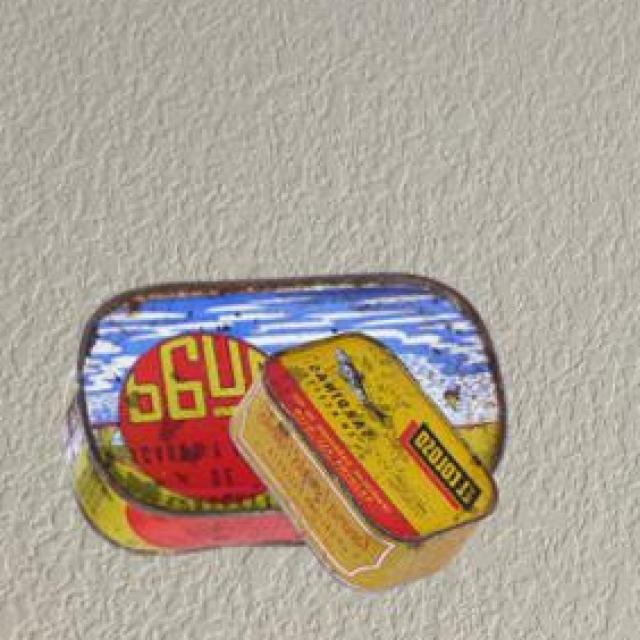logam: (58, 278, 503, 559), (226, 337, 496, 596)
